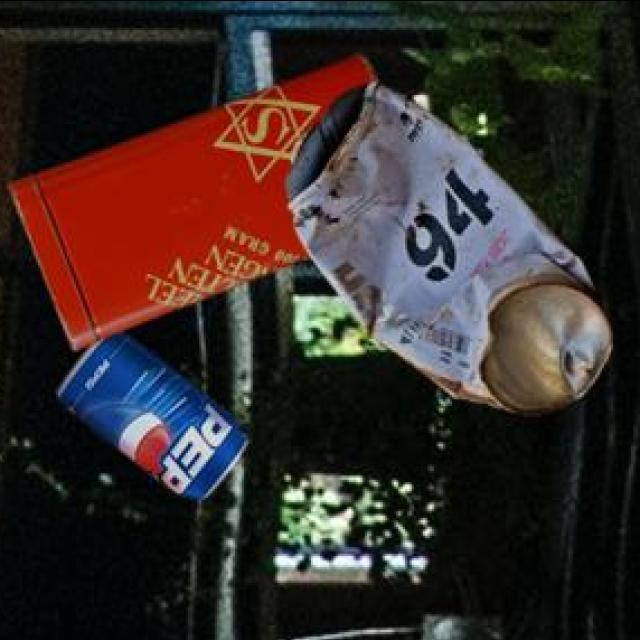logam: (12, 48, 382, 346), (290, 77, 614, 411), (62, 328, 250, 496)
